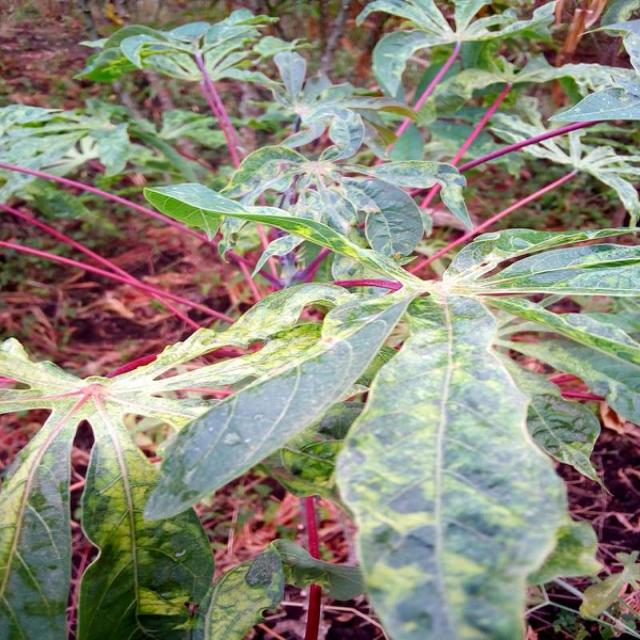cassava leaf: (2, 1, 640, 638), (332, 288, 598, 638), (142, 284, 422, 522)
